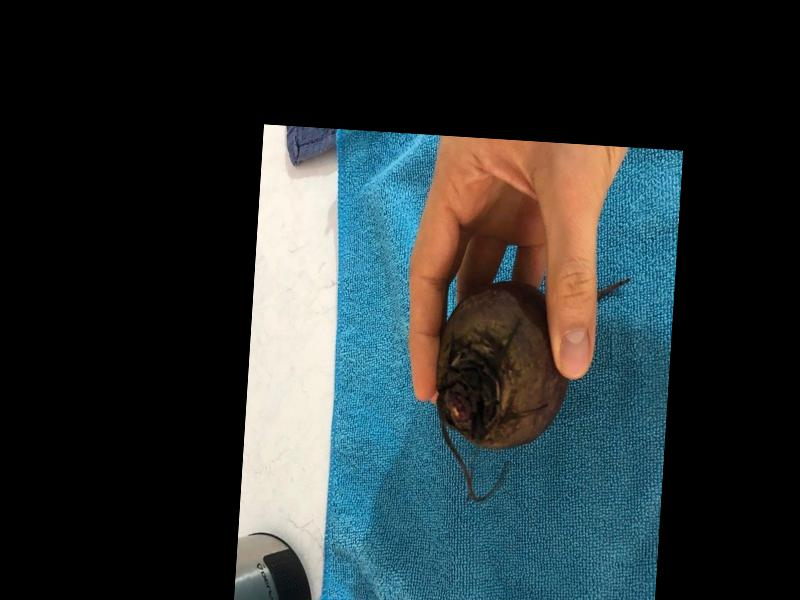Beet: (430, 267, 629, 508)
